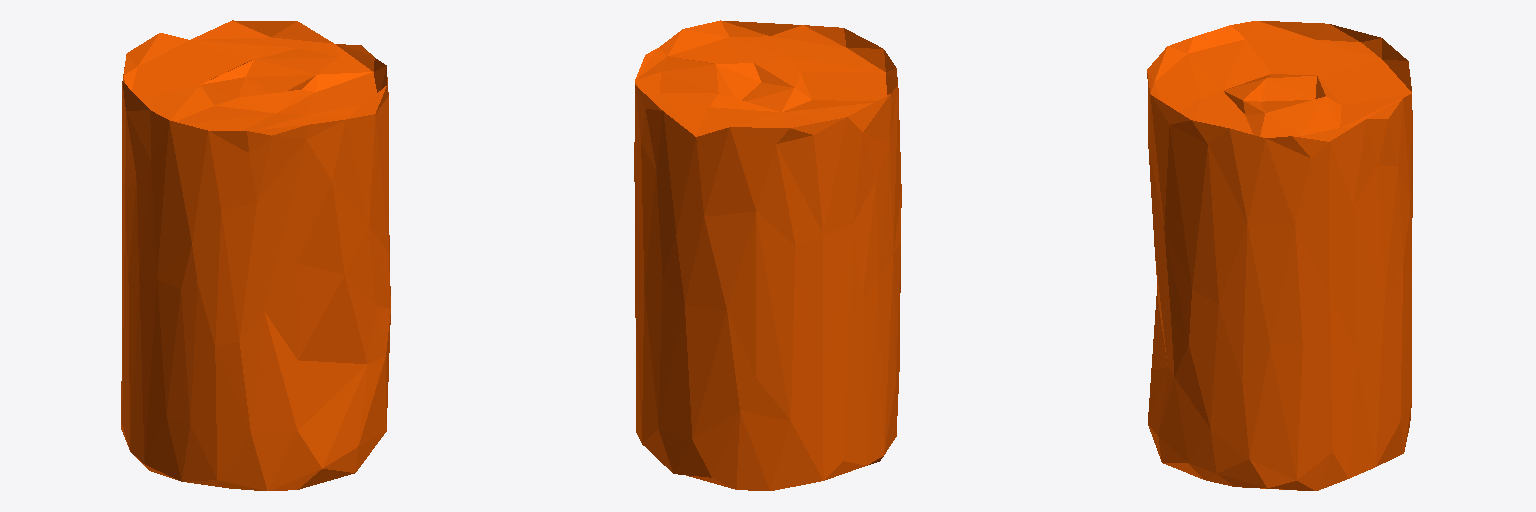
The robot description file, URDF, robot "005_tomato_soup_can":
<?xml version="1.0" ?>
<robot name="005_tomato_soup_can">
   <material name="obj_color">
      <color rgba="1.0 0.423529411765 0.0392156862745 1.0"/>
   </material>
   <link name="top">
      <inertial>
         <origin rpy="0.0003352129725832124 0.0006150820355038521 0.0006202974411110395" xyz="-0.000427305369546081 0.001768870789186815 -0.009317958860955732"/>
         <mass value="0.6183993198387209"/>
         <inertia ixx="0.0006150752378275999" ixy="-6.003837835819106e-08" ixz="-1.452906603765664e-06" iyy="0.0006202960105823645" iyz="4.423580049935936e-07" izz="0.0003352212007881398"/>
      </inertial>
      <visual>
         <origin rpy="0 0 0" xyz="0 0 0"/>
         <geometry>
            <mesh filename="top_watertight_tiny.stl" scale="1 1 1"/>
         </geometry>
         <material name="obj_color"/>
      </visual>
      <collision>
         <origin rpy="0 0 0" xyz="0 0 0"/>
         <geometry>
            <mesh filename="top_watertight_tiny.obj" scale="1 1 1"/>
         </geometry>
      </collision>
   </link>
   <link name="bottom">
      <inertial>
         <origin rpy="1.633333333199431e-08 1.633333333199431e-08 1.633333333362855e-08" xyz="0.3464080000000008 0.3464080000000008 0.3464080000000008"/>
         <mass value="0.0009800000000000017"/>
         <inertia ixx="1.633333333253906e-08" ixy="5.447480642029219e-19" ixz="5.447480642029219e-19" iyy="1.633333333253906e-08" iyz="5.447480642029219e-19" izz="1.633333333253906e-08"/>
      </inertial>
      <visual>
         <origin rpy="0 0 0" xyz="0 0 0"/>
         <geometry>
            <mesh filename="bottom_watertight_tiny.stl" scale="1 1 1"/>
         </geometry>
         <material name="obj_color"/>
      </visual>
   </link>
   <joint name="rotation" type="revolute">
      <origin xyz="0 0 0"/>
      <axis xyz="0 0 -1"/>
      <parent link="bottom"/>
      <child link="top"/>
      <dynamics damping="1.0" friction="1.0"/>
      <limit effort="0.1" velocity="0.1" lower="0" upper="0.001"/>
   </joint>
</robot>

--- What the picture shows (computed from the rendered views, not written in the file) ---
Views: 3 orthographic renders of the robot side by side, from view 1: azimuth 30°, elevation 25°; view 2: azimuth 150°, elevation 25°; view 3: azimuth 270°, elevation 25°.
Model 005_tomato_soup_can with 2 links and 1 joints (1 revolute), rooted at bottom, posed every joint at zero.
Visible links, largest first — view 1: top; view 2: top; view 3: top.
Boxes of the visible links, box(x1,y1,x2,y2) form: top: box(121, 20, 390, 490); top: box(634, 20, 901, 490); top: box(1147, 21, 1412, 490).
Size in the robot's own frame: 0.0658 by 0.0663 by 0.101 metres.
1 mesh visuals loaded from 2 distinct referenced files (1 binary STL); not drawn: 1 (reference not matched to a file when rendering).
